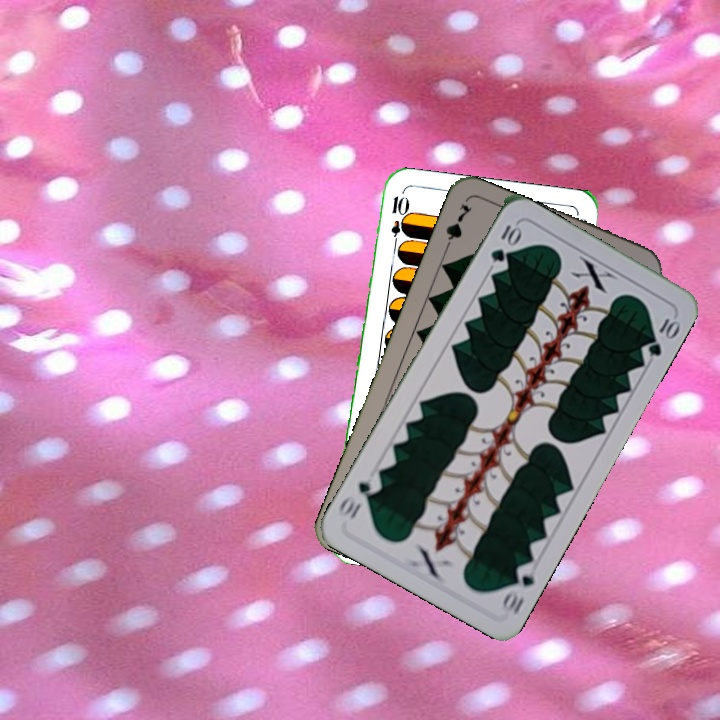E10: (386, 192, 408, 251)
G10: (497, 558, 537, 617), (486, 220, 523, 265)
G7: (440, 200, 475, 256)
